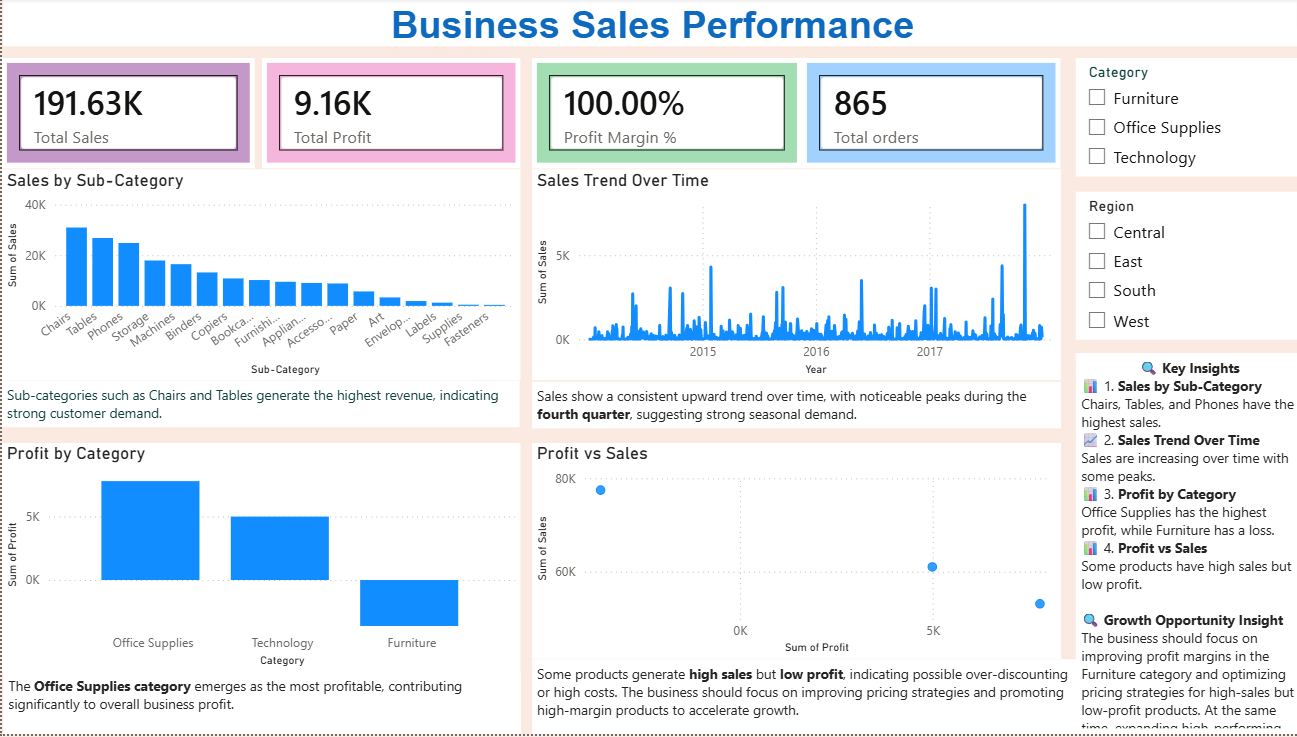

This screenshot's page, from the dashboard's own definition file:
{"tool":"powerbi","page":{"name":"Page 1","canvas":[1280,720],"ordinal":0},"visuals":[{"type":"clusteredColumnChart","title":"Sales by Sub-Category","fields":{"Category":["Sample - Superstore.Sub-Category"],"Y":["Sum(Sample - Superstore.Sales)"]},"box":[0,167.5,507.5,206.7],"z":0},{"type":"cardVisual","fields":{"Data":["Sum(Sample - Superstore.Sales)"]},"box":[0,58.7,247,107.6],"z":1000},{"type":"cardVisual","fields":{"Data":["Sum(Sample - Superstore.Profit)"]},"box":[254.3,58.7,253.1,107.6],"z":2000},{"type":"cardVisual","fields":{"Data":["Sum(Sample - Superstore.Profit)"]},"box":[518.5,58.7,264.1,107.6],"z":3000},{"type":"textbox","box":[0,374.2,506.3,45.2],"z":4000},{"type":"cardVisual","fields":{"Data":["Sample - Superstore.Total orders"]},"box":[782.6,58.7,253.1,107.6],"z":5000},{"type":"lineChart","title":"Sales Trend Over Time","fields":{"Category":["Sample - Superstore.Order Date.Variation.Date Hierarchy.Year","Sample - Superstore.Order Date.Variation.Date Hierarchy.Quarter","Sample - Superstore.Order Date.Variation.Date Hierarchy.Month","Sample - Superstore.Order Date.Variation.Date Hierarchy.Day"],"Y":["Sum(Sample - Superstore.Sales)"]},"box":[518.5,167.5,517.3,206.7],"z":6000},{"type":"textbox","box":[518.5,375.4,517.3,45.2],"z":7000},{"type":"clusteredColumnChart","title":"Profit by Category","fields":{"Category":["Sample - Superstore.Category"],"Y":["Sum(Sample - Superstore.Profit)"]},"box":[0,435.3,507.5,223.8],"z":8000},{"type":"textbox","box":[1.2,659.1,506.3,45.2],"z":9000},{"type":"scatterChart","title":"Profit vs Sales","fields":{"X":["Sum(Sample - Superstore.Profit)"],"Y":["Sum(Sample - Superstore.Sales)"],"Category":["Sample - Superstore.Category"]},"box":[518.5,435.3,517.3,211.6],"z":10000},{"type":"textbox","box":[518.5,646.9,541.7,57.5],"z":11000},{"type":"slicer","fields":{"Values":["Sample - Superstore.Category"]},"box":[1050,58.8,230,116.2],"z":12000},{"type":"slicer","fields":{"Values":["Sample - Superstore.Region"]},"box":[1050,190,230,145],"z":13000},{"type":"textbox","box":[1050,347.5,230,372.5],"z":14000},{"type":"textbox","box":[1.2,0,1278.8,47.5],"z":15000}]}

Visuals, with their boxes in screenshot pixels (x1, y1, x2, y2), scaled from the page's 1280x720 canvas onto the 1297x737 screenshot:
"Sales by Sub-Category" clusteredColumnChart: box=[0, 171, 514, 383]
cardVisual - Sum(Sample - Superstore.Sales): box=[0, 60, 250, 170]
cardVisual - Sum(Sample - Superstore.Profit): box=[258, 60, 514, 170]
cardVisual - Sum(Sample - Superstore.Profit): box=[525, 60, 793, 170]
textbox: box=[0, 383, 513, 429]
cardVisual - Sample - Superstore.Total orders: box=[793, 60, 1049, 170]
"Sales Trend Over Time" lineChart: box=[525, 171, 1050, 383]
textbox: box=[525, 384, 1050, 431]
"Profit by Category" clusteredColumnChart: box=[0, 446, 514, 675]
textbox: box=[1, 675, 514, 721]
"Profit vs Sales" scatterChart: box=[525, 446, 1050, 662]
textbox: box=[525, 662, 1074, 721]
slicer - Sample - Superstore.Category: box=[1064, 60, 1296, 179]
slicer - Sample - Superstore.Region: box=[1064, 194, 1296, 343]
textbox: box=[1064, 356, 1296, 736]
textbox: box=[1, 0, 1296, 49]
